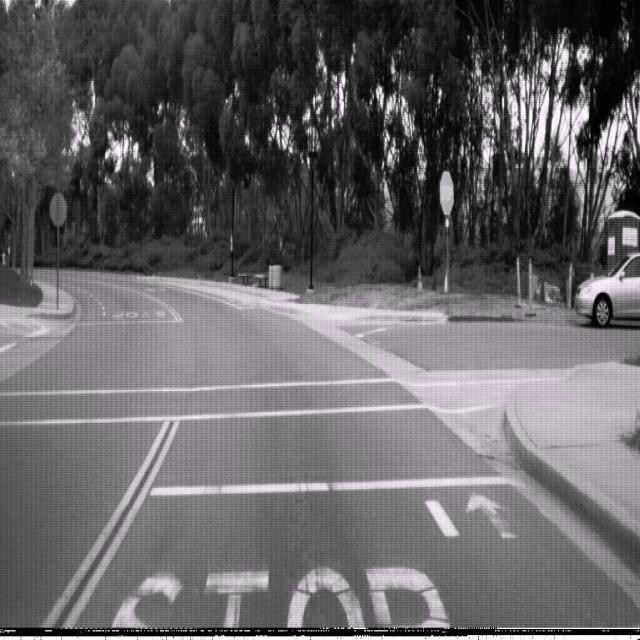stop_sign: (439, 170, 454, 216)
